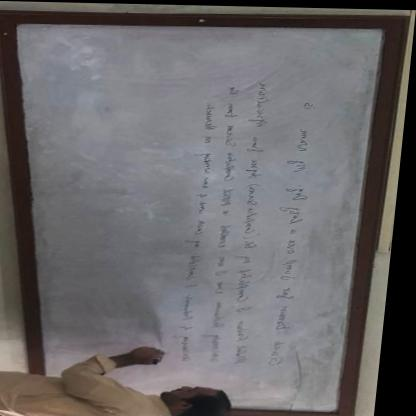Handwritten text: (226, 70, 285, 368), (270, 97, 328, 372), (170, 97, 225, 364), (209, 75, 246, 366)
Lecturer: (0, 351, 249, 416)
Whiteboard: (8, 21, 396, 415)
